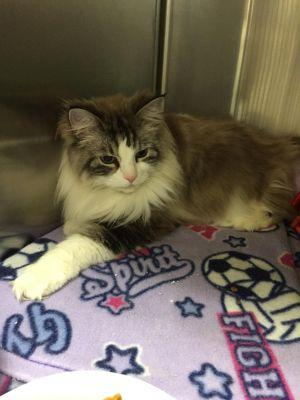ragdoll: (63, 86, 175, 211)
